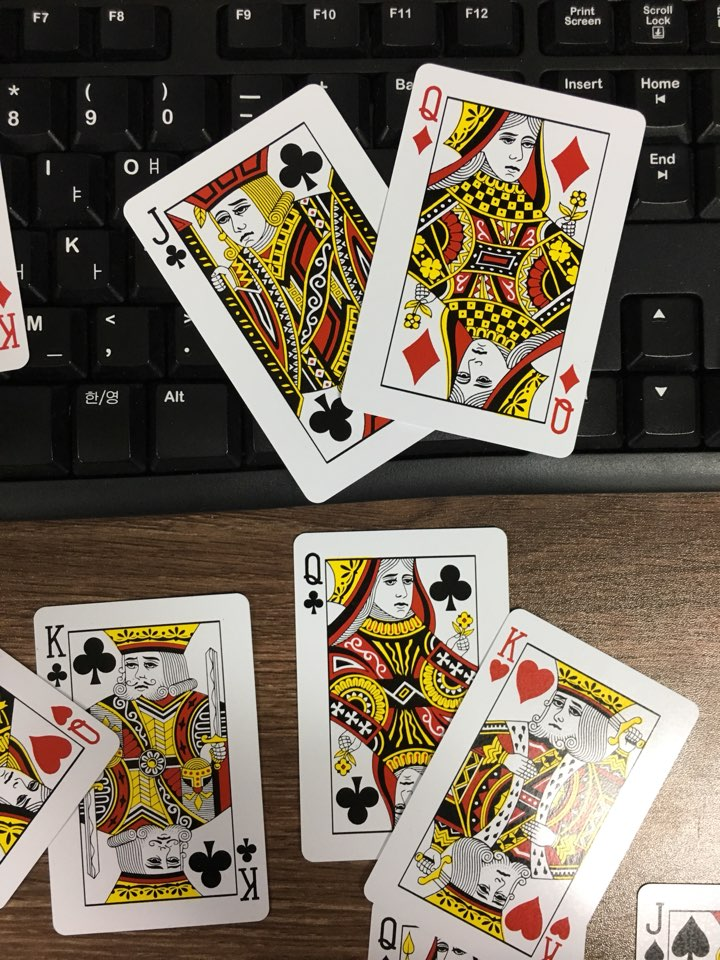jack: (98, 63, 493, 525), (613, 863, 720, 958)
king: (347, 595, 700, 960), (17, 576, 291, 940), (1, 76, 55, 405)
queen: (328, 32, 651, 482), (265, 503, 539, 887), (1, 614, 138, 955), (329, 873, 599, 960)
